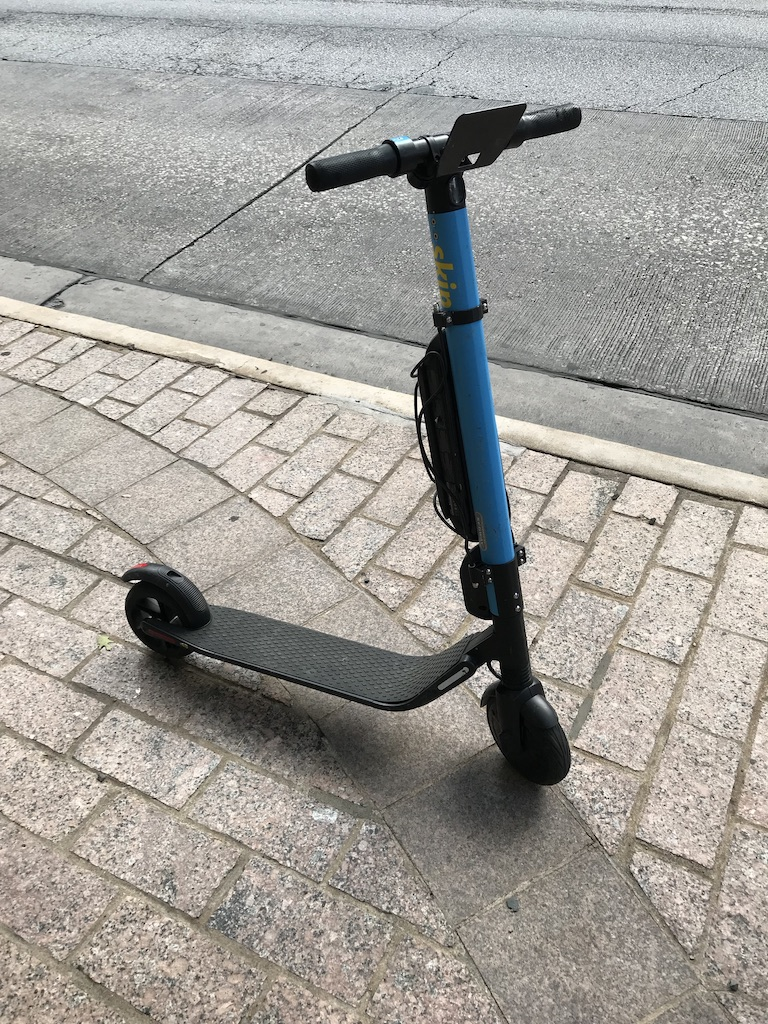scooter: (124, 98, 588, 789)
